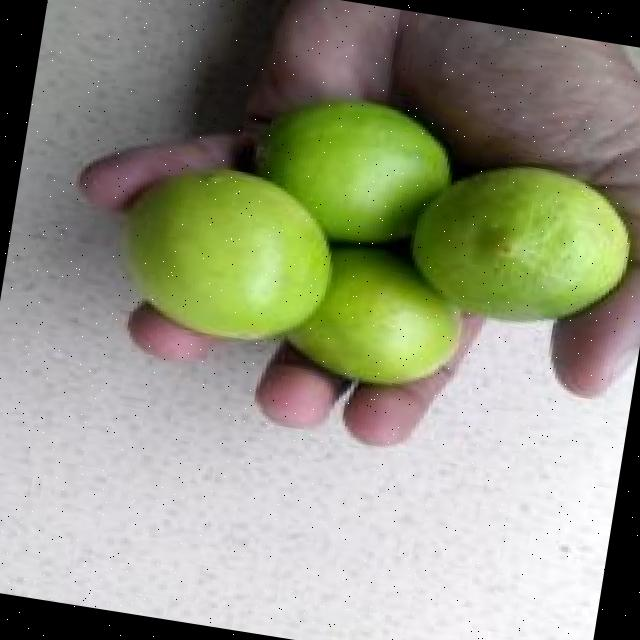lemon: (126, 169, 330, 339), (411, 166, 627, 321), (258, 101, 450, 242), (287, 248, 459, 384)
